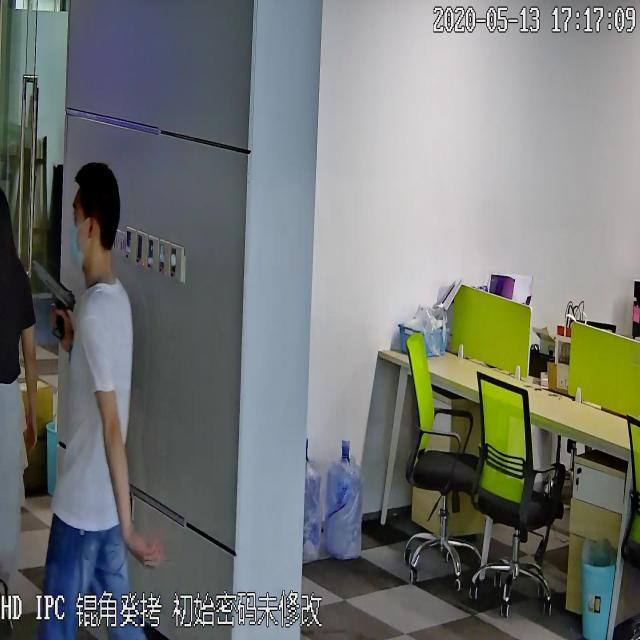gun: (31, 253, 75, 342)
